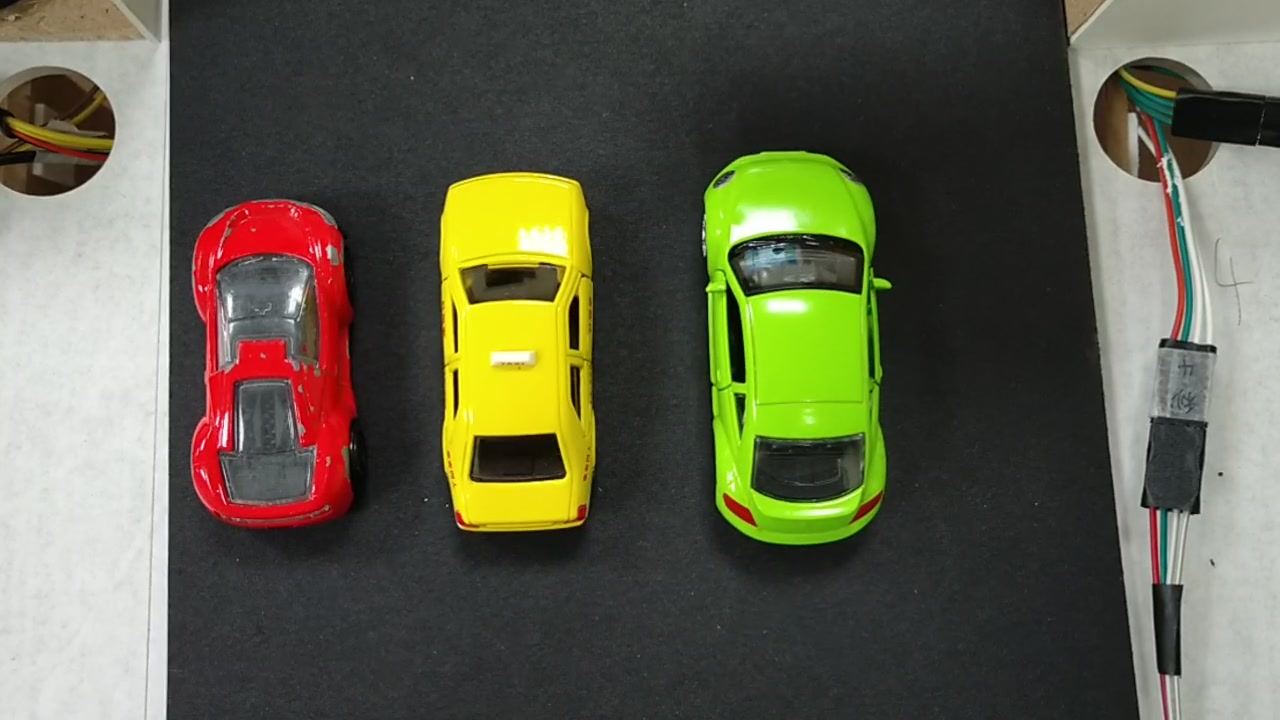car: (705, 156, 895, 541), (439, 169, 592, 537), (194, 205, 354, 530)
